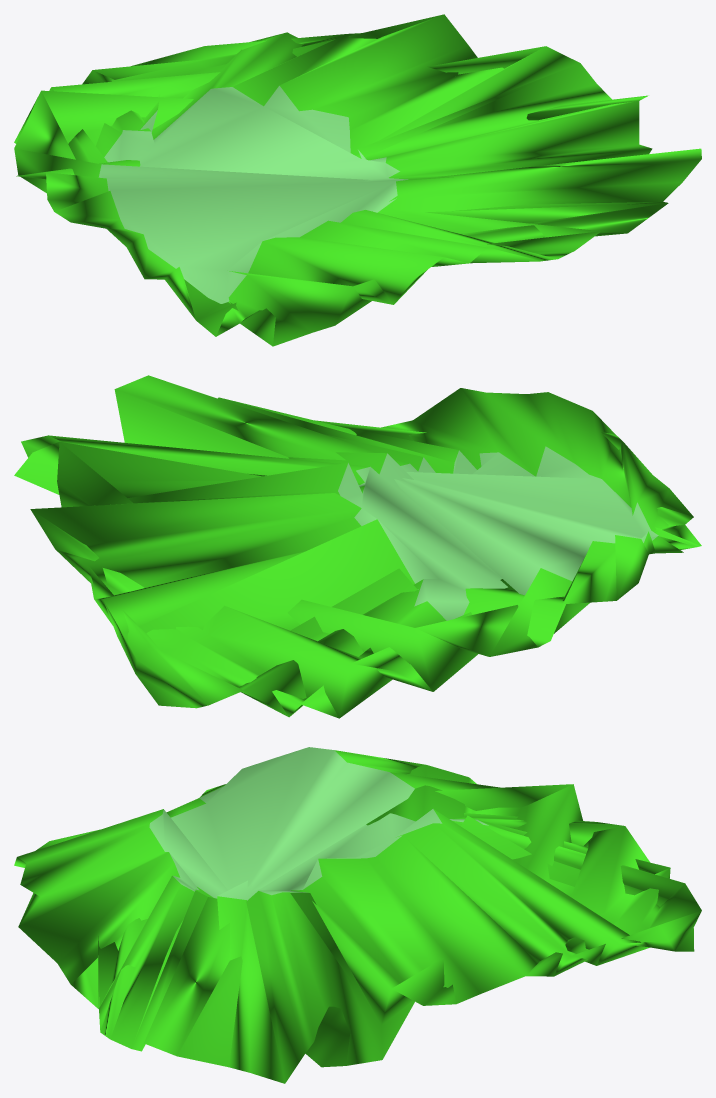
Rendered from lettuce.glb.
3 views of the same model, one above another, from view 1: azimuth 30°, elevation 25°; view 2: azimuth 150°, elevation 25°; view 3: azimuth 270°, elevation 25° (orthographic). The views are drawn at different scales.
Visible parts, largest first — view 1: Circle.001; view 2: Circle.001; view 3: Circle.001.
Part boxes in pixels (<box>): Circle.001: <box>14,14,701,346</box>; Circle.001: <box>14,375,701,718</box>; Circle.001: <box>14,747,701,1083</box>.
Bounding box in the file's own units: 2.01 × 0.3371 × 2.
